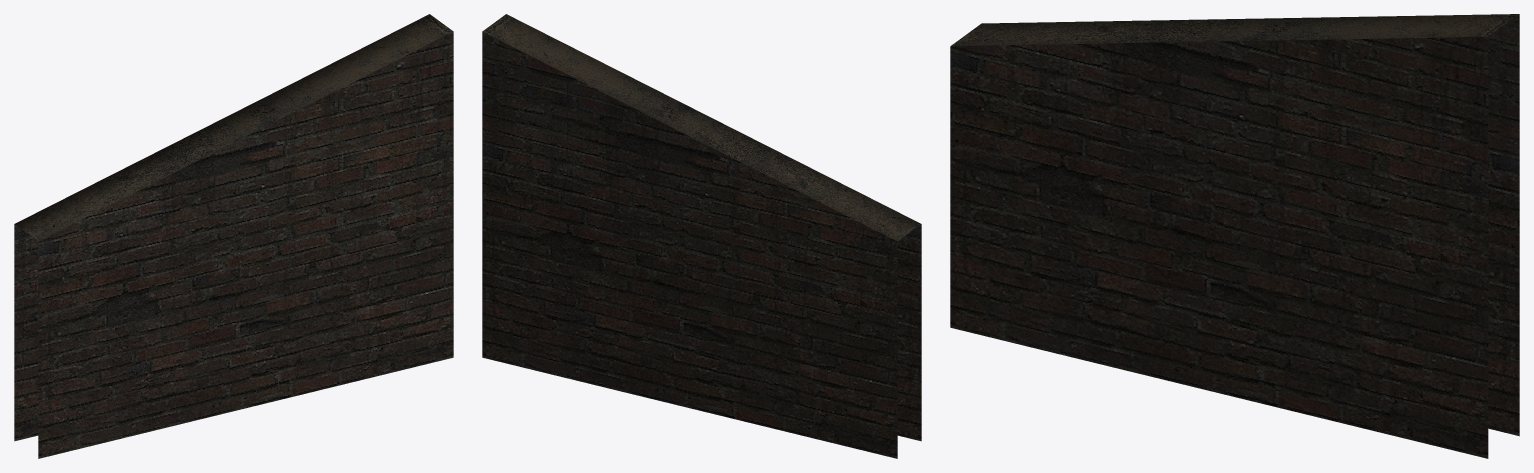
File: wall_top_part_hs_3.glb
The picture shows the model from 3 angles, left to right: view 1: azimuth 30°, elevation 25°; view 2: azimuth 150°, elevation 25°; view 3: azimuth 330°, elevation 25°; orthographic projection. The views are drawn at different scales.
Visible parts, largest first — view 1: wall_top_part_hs_3; view 2: wall_top_part_hs_3; view 3: wall_top_part_hs_3.
Boxes of the visible parts, x1=… form: wall_top_part_hs_3: x1=14, y1=14, x2=453, y2=458; wall_top_part_hs_3: x1=482, y1=14, x2=921, y2=458; wall_top_part_hs_3: x1=950, y1=14, x2=1519, y2=458.
Bounding box in the file's own units: 4 × 3 × 0.4.
Materials: 2 (2 with a texture image).
